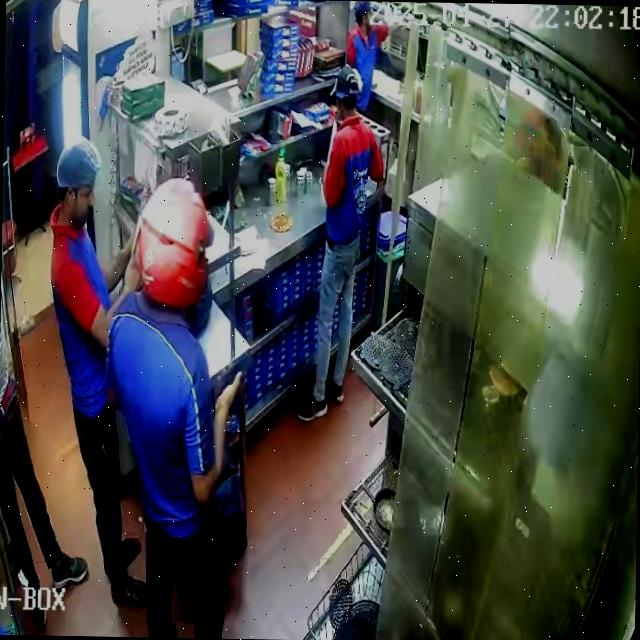helmet: (135, 176, 214, 306)
no_helmet: (57, 135, 102, 228)
